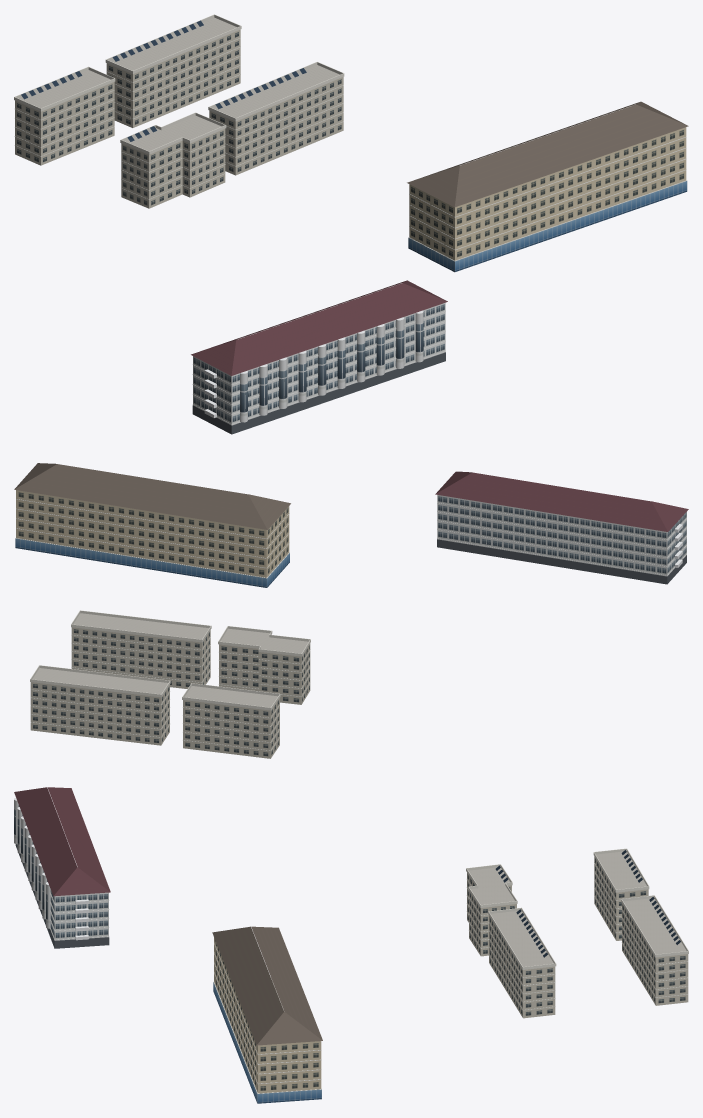
Rendered from dorm_dongyuan_h1.glb.
The picture shows the model from 3 angles, top to bottom: view 1: azimuth 30°, elevation 25°; view 2: azimuth 150°, elevation 25°; view 3: azimuth 270°, elevation 25°; orthographic projection. The views are drawn at different scales.
Visible parts, largest first — view 1: 862952686, 862952674, 1425305075, 1425305074, 1425504863, 1425305071; view 2: 862952686, 862952674, 1425305075, 1425305074, 1425305071, 1425504863; view 3: 862952686, 862952674, 1425305075, 1425305074, 1425305071, 1425504863.
Part boxes in pixels (box(x1,y1,x2,y2)): 862952686: box(407, 101, 688, 272); 862952674: box(191, 280, 447, 434); 1425305075: box(105, 14, 241, 127); 1425305074: box(208, 62, 344, 175); 1425504863: box(120, 112, 226, 208); 1425305071: box(14, 66, 115, 165); 862952686: box(14, 463, 290, 587); 862952674: box(435, 471, 688, 584); 1425305075: box(30, 665, 170, 745); 1425305074: box(71, 610, 211, 688); 1425305071: box(182, 683, 280, 758); 1425504863: box(218, 626, 310, 704); 862952686: box(212, 926, 322, 1103); 862952674: box(14, 787, 110, 948); 1425305075: box(621, 895, 688, 1005); 1425305074: box(488, 907, 556, 1018); 1425305071: box(593, 848, 649, 940); 1425504863: box(466, 864, 517, 956).
Size of the model in its own units: 207 by 28.03 by 225.
Materials: 8 (5 with a texture image).
